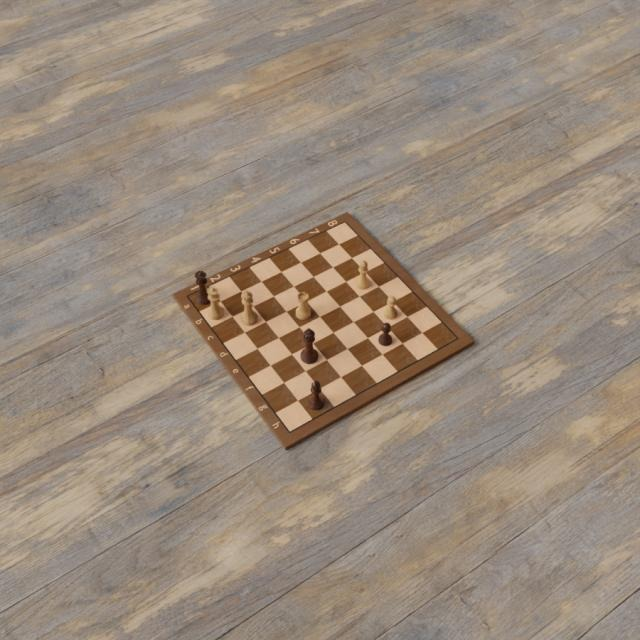black-bishop: (308, 379, 326, 412)
black-king: (299, 328, 319, 364)
black-pawn: (377, 322, 393, 345)
black-queen: (193, 270, 213, 306)
white-bishop: (355, 258, 370, 289)
white-king: (237, 289, 258, 326)
white-pawn: (381, 295, 398, 320)
white-queen: (206, 285, 225, 319)
white-rook: (294, 291, 313, 321)
